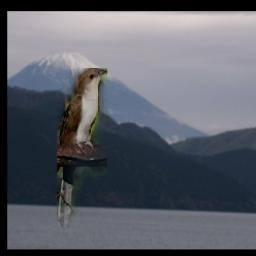Cuckoo: (58, 68, 108, 230)
